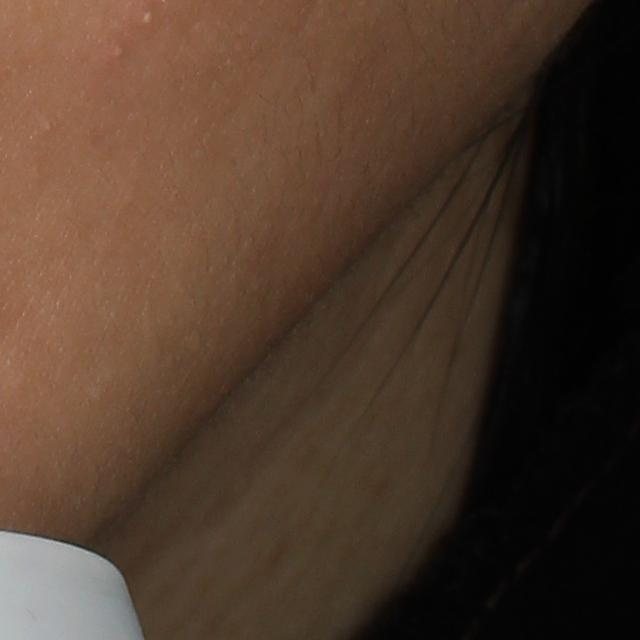pustule: (137, 7, 160, 30)
